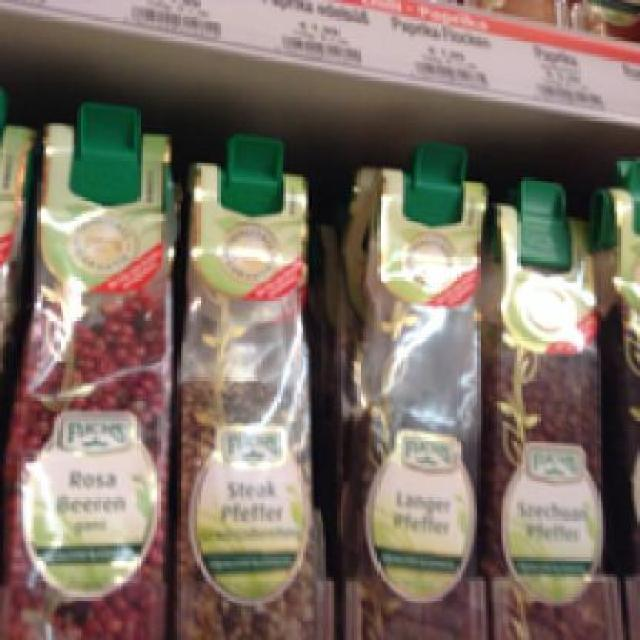Spices: (5, 117, 172, 637), (174, 157, 326, 637), (346, 165, 483, 638), (482, 194, 608, 637)
